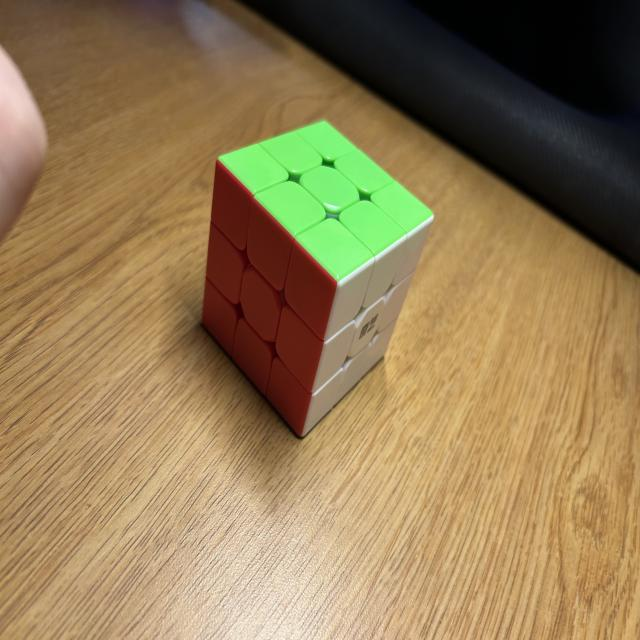Rubiks Cube: (202, 120, 436, 438)
